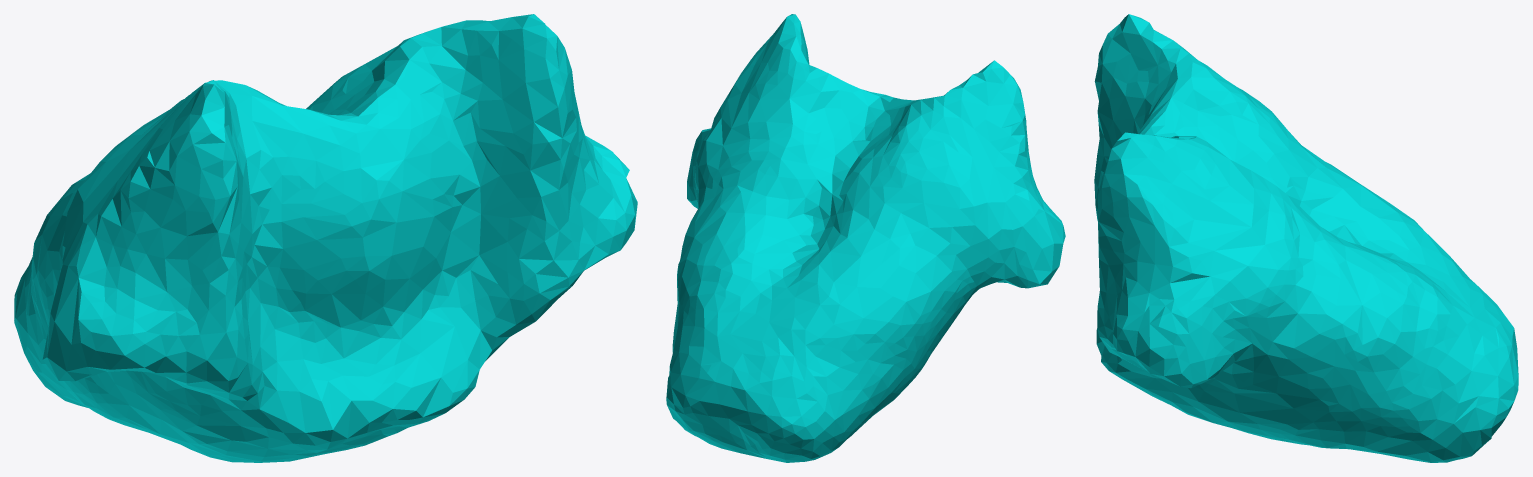
File: 30-Md-medulla-('0.0000', '1.0000', '1.0000').obj
3 renders of one model, left to right at view 1: azimuth 30°, elevation 25°; view 2: azimuth 150°, elevation 25°; view 3: azimuth 270°, elevation 25°, orthographic. The views are drawn at different scales.
Bounding box in the file's own units: 122 × 102 × 106.
